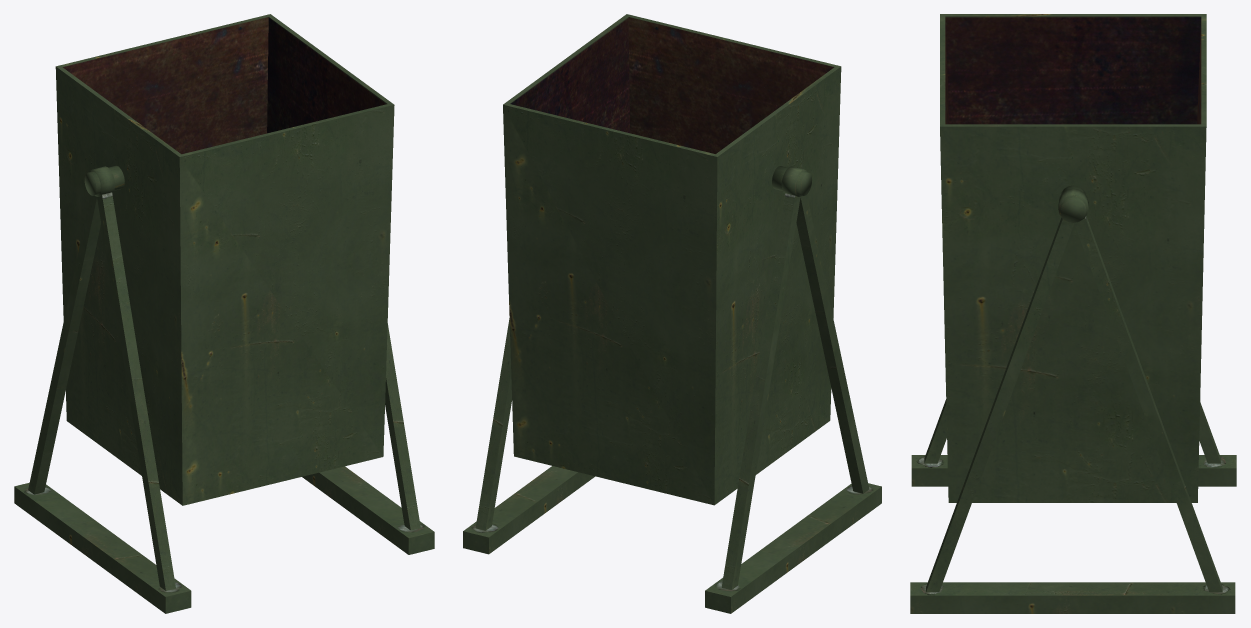
File: trashcan 3_1.fbx
3 views of the same model, side by side, from view 1: azimuth 30°, elevation 25°; view 2: azimuth 150°, elevation 25°; view 3: azimuth 270°, elevation 25° (orthographic). The views are drawn at different scales.
Visible parts, largest first — view 1: Cylinder; view 2: Cylinder; view 3: Cylinder.
Part boxes in pixels (x1,y1,x2,y2): Cylinder: (14,14,434,613); Cylinder: (463,14,881,613); Cylinder: (910,14,1236,613).
Bounding box in the file's own units: 51.88 × 81.31 × 50.76.
